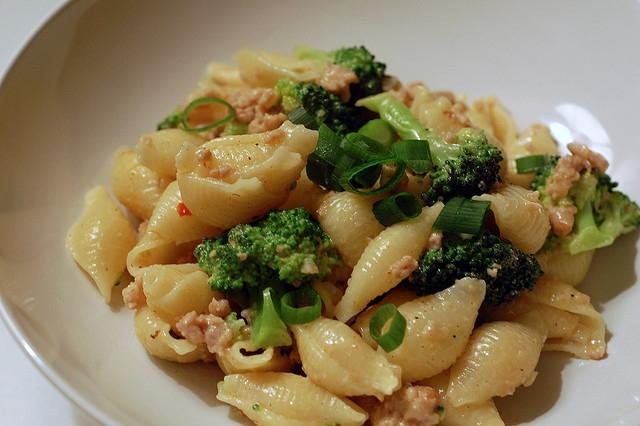broccoli: (194, 205, 344, 348), (355, 92, 503, 208), (529, 154, 640, 254), (406, 229, 544, 307), (276, 45, 388, 138)
green onion: (250, 286, 292, 348), (432, 198, 492, 235), (178, 96, 236, 132), (368, 304, 408, 352), (372, 191, 422, 228), (280, 288, 322, 324), (342, 133, 394, 162), (314, 123, 346, 168), (390, 140, 432, 174), (329, 152, 363, 192), (356, 119, 396, 150), (306, 153, 336, 191), (287, 106, 319, 130), (352, 164, 383, 188), (514, 154, 546, 174), (224, 122, 248, 136)
